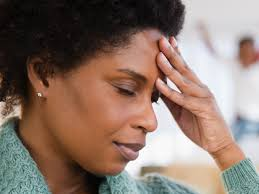no-mask: (21, 5, 185, 180)
